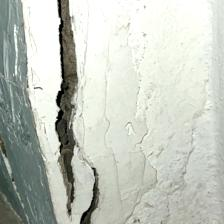High: (43, 1, 110, 224)
